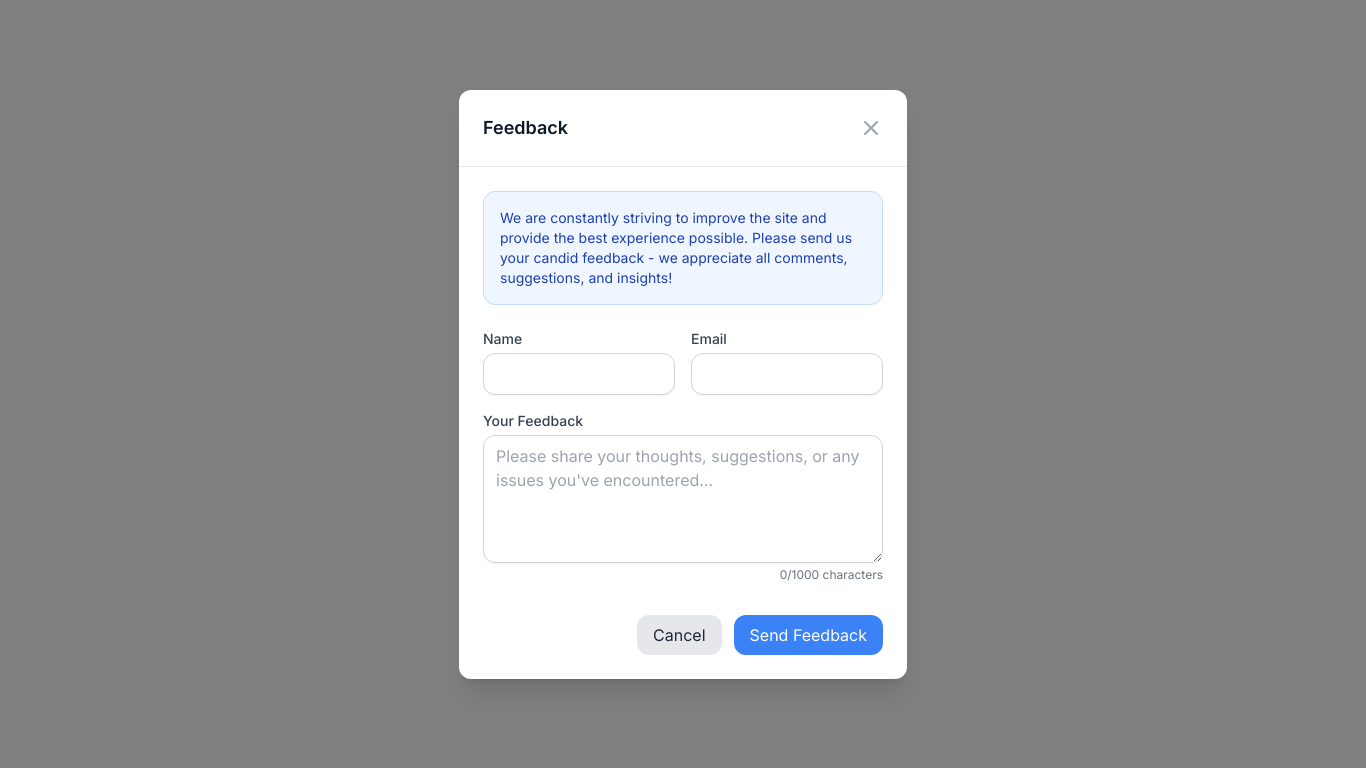
Test: FeedbackModal › validates email format
Step 1. Type "Test User" into the field labelled "Name" → x=579, y=374, box [483,352,675,394]
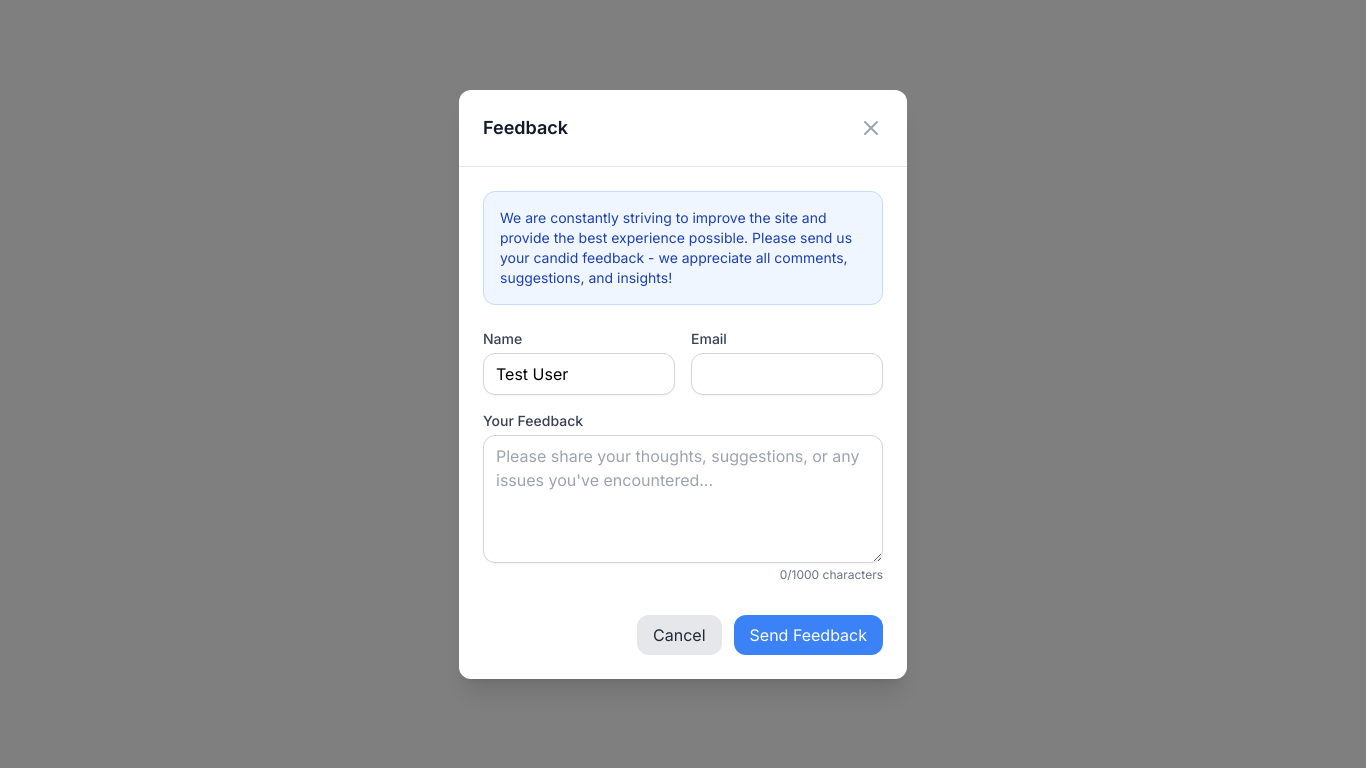
Step 2. Type "invalid-email" into the field labelled "Email" → x=787, y=374, box [691,352,883,394]
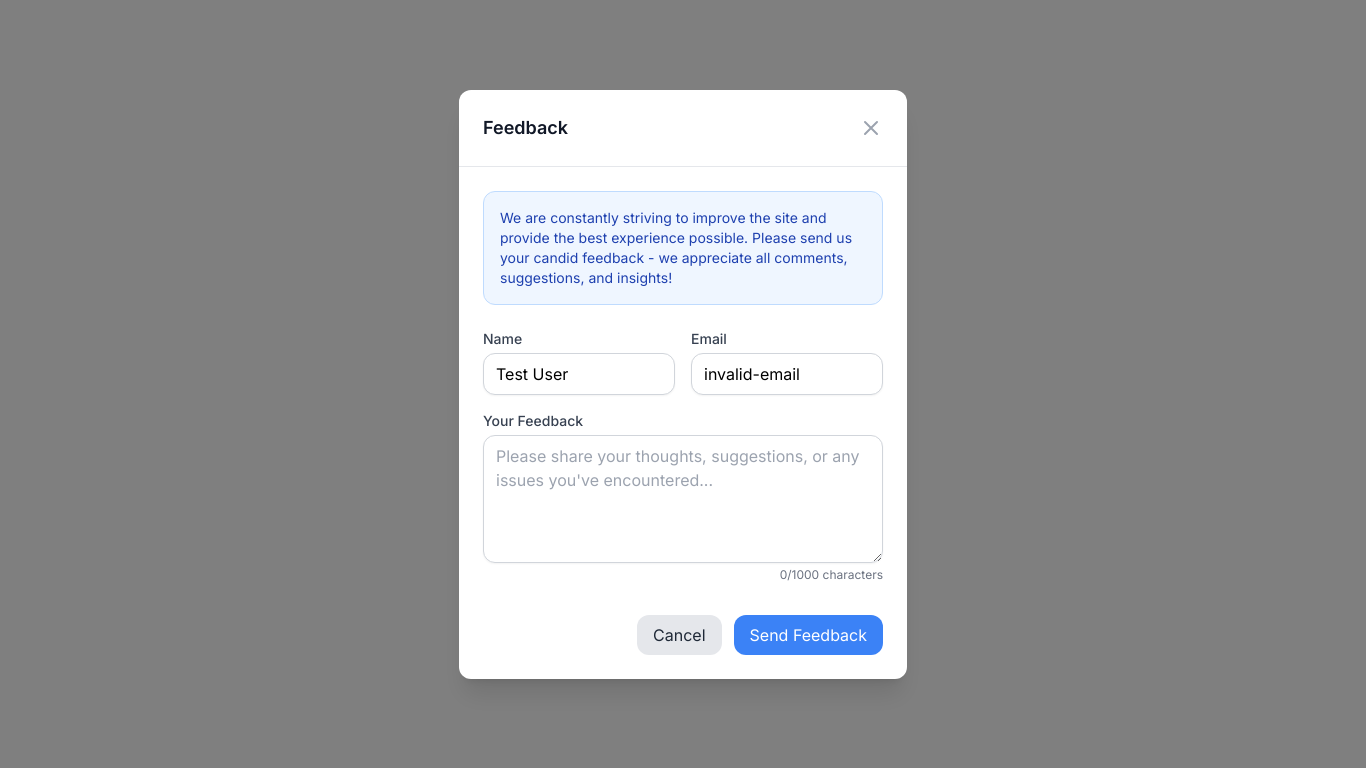
Step 3. Replace the text in the text box labelled "Your Feedback" with "Test feedback" → x=683, y=498, box [483,434,883,562]
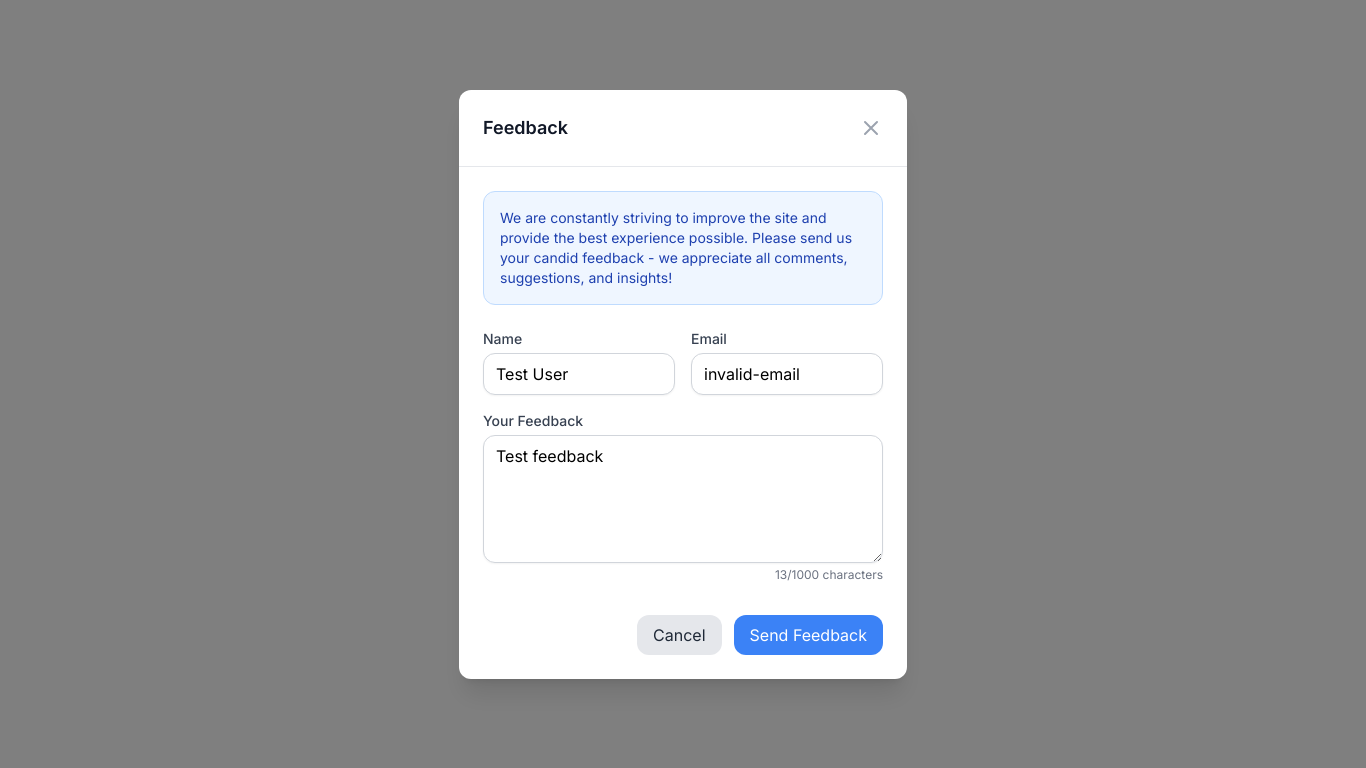
Step 4. Submit the form with test id "feedback-form", box [483,328,883,654]
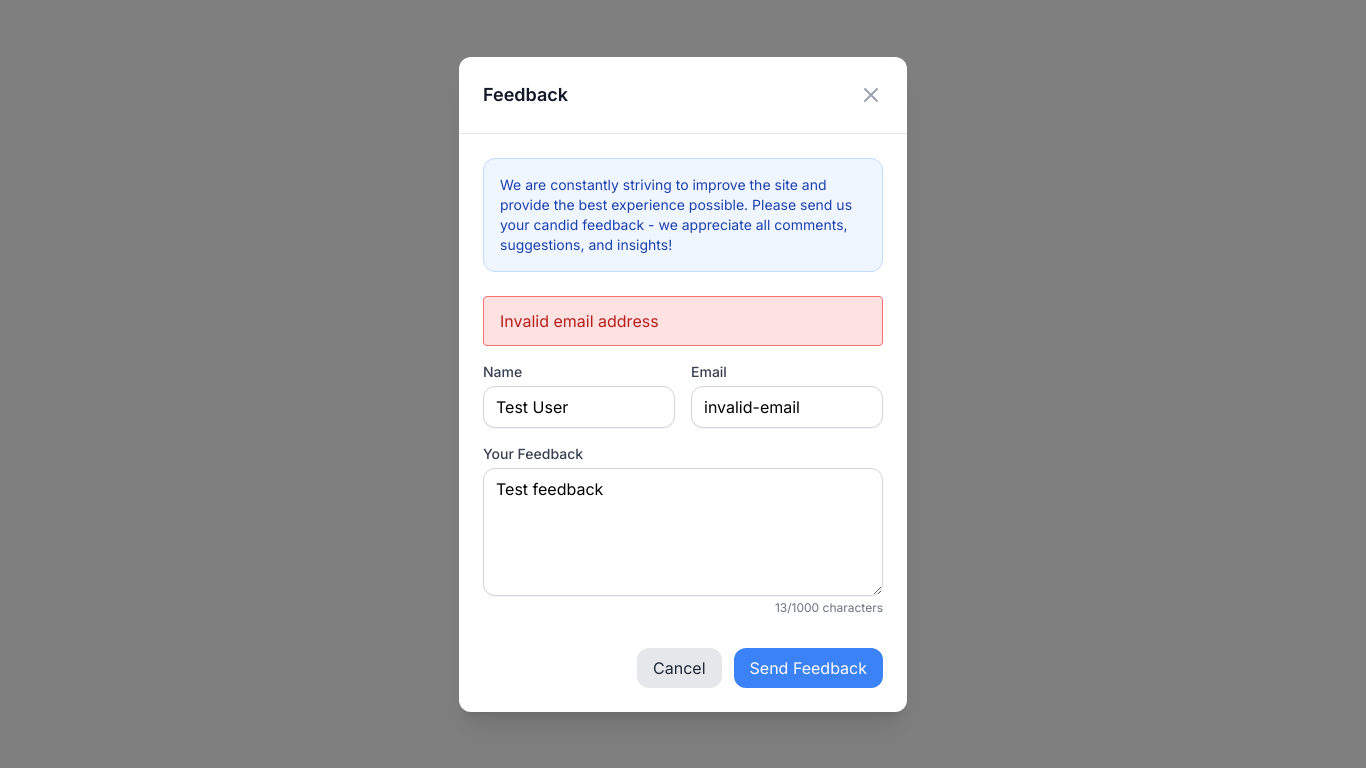
Result: the text "Invalid email address" is shown at [500,310,659,330]
